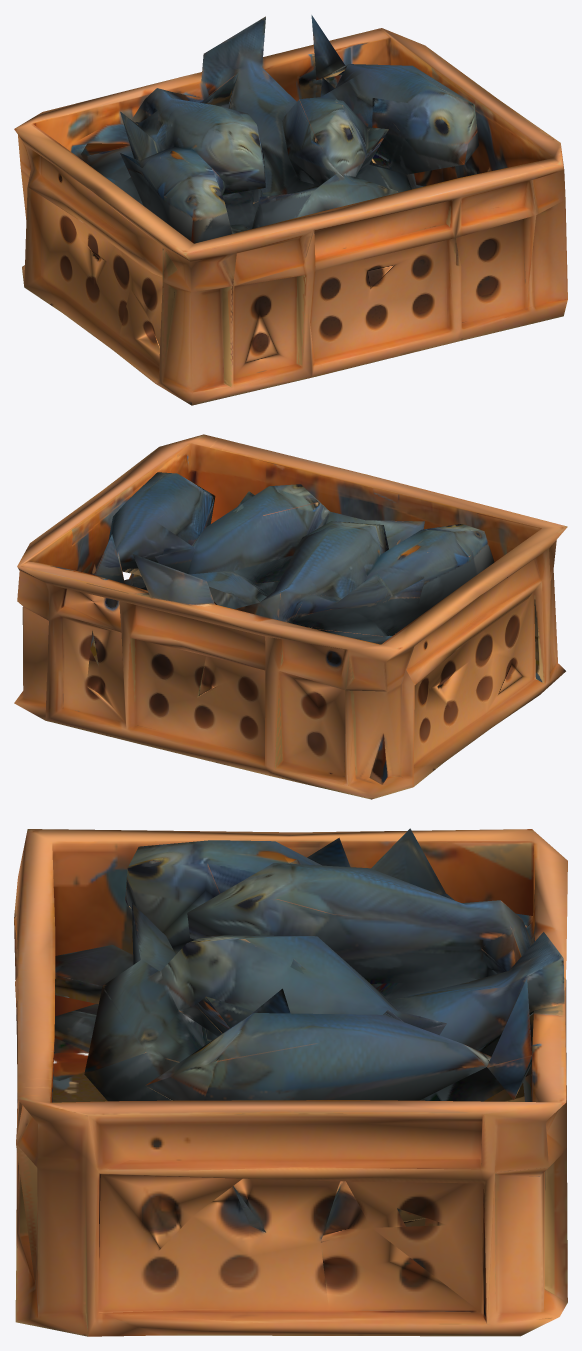
Rendered from Fish_in_a_Crate_0811170915_texture.fbx.
3 views of the same model, one above another, from view 1: azimuth 30°, elevation 25°; view 2: azimuth 150°, elevation 25°; view 3: azimuth 270°, elevation 25° (orthographic). The views are drawn at different scales.
Parts seen in each view (by area): view 1: Mesh1.0; view 2: Mesh1.0; view 3: Mesh1.0.
Part boxes in pixels (x1,y1,x2,y2): Mesh1.0: (14, 15, 567, 405); Mesh1.0: (14, 434, 567, 799); Mesh1.0: (14, 828, 567, 1336).
Bounding box in the file's own units: 199 × 93.2 × 162.
Materials: 1 (1 with a texture image).
